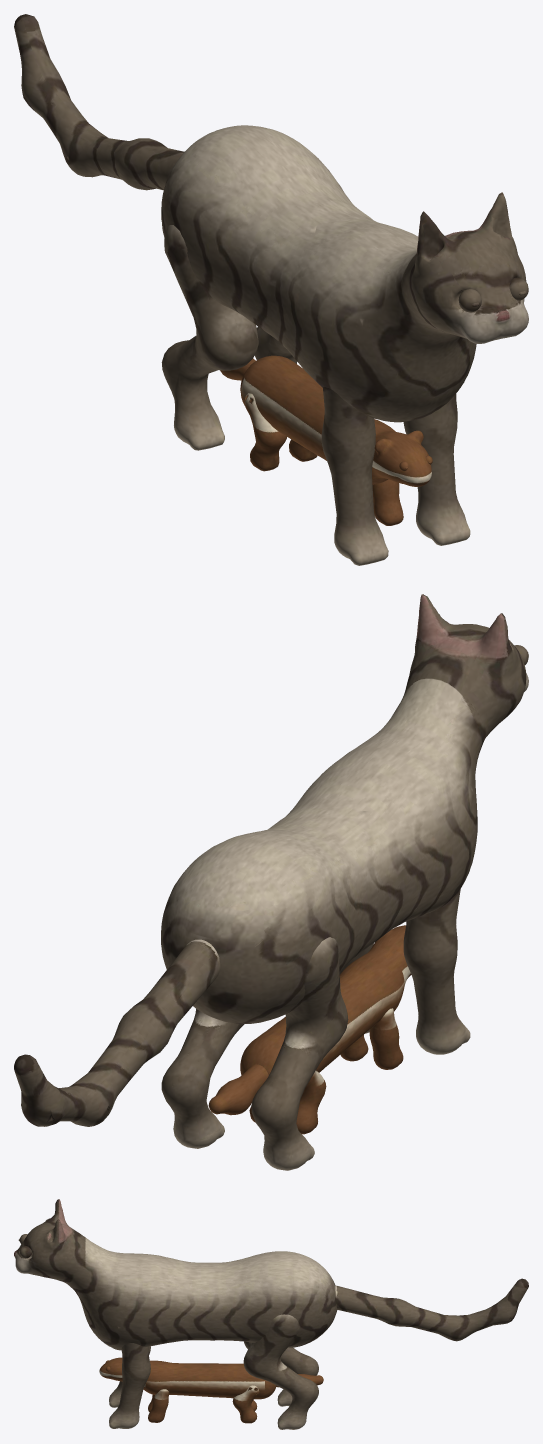
Rendered from criaturas3.glb.
3 renders of one model, top to bottom at view 1: azimuth 30°, elevation 25°; view 2: azimuth 150°, elevation 25°; view 3: azimuth 270°, elevation 25°, orthographic. The views are drawn at different scales.
Visible parts, largest first — view 1: CR_gato_cuerpo, CR_gato_pTI, CR_gato_cola, CR_comadreja_cuerpo, CR_gato_pDI, CR_gato_pDD, CR_comadreja_pTI, CR_comadreja_pDD, CR_gato_pTD; view 2: CR_gato_cuerpo, CR_gato_cola, CR_gato_pTI, CR_comadreja_cuerpo, CR_gato_pDI, CR_gato_pTD, CR_comadreja_cola, CR_comadreja_pDI, CR_comadreja_pTI; view 3: CR_gato_cuerpo, CR_gato_cola, CR_comadreja_cuerpo, CR_gato_pTD, CR_gato_pDD, CR_gato_pTI, CR_comadreja_pTD, CR_comadreja_pDD.
Boxes of the visible parts, left/top/right/bottom form: CR_gato_cuerpo: left=161, top=125, right=528, bottom=422; CR_gato_pTI: left=161, top=225, right=258, bottom=450; CR_gato_cola: left=14, top=14, right=183, bottom=190; CR_comadreja_cuerpo: left=240, top=355, right=432, bottom=486; CR_gato_pDI: left=321, top=387, right=388, bottom=565; CR_gato_pDD: left=403, top=394, right=470, bottom=545; CR_comadreja_pTI: left=244, top=393, right=286, bottom=471; CR_comadreja_pDD: left=372, top=479, right=403, bottom=525; CR_gato_pTD: left=254, top=327, right=296, bottom=363; CR_gato_cuerpo: left=161, top=594, right=528, bottom=1023; CR_gato_cola: left=14, top=939, right=220, bottom=1126; CR_gato_pTI: left=251, top=937, right=348, bottom=1170; CR_comadreja_cuerpo: left=240, top=925, right=411, bottom=1075; CR_gato_pDI: left=403, top=889, right=470, bottom=1054; CR_gato_pTD: left=161, top=1009, right=244, bottom=1148; CR_comadreja_cola: left=208, top=1064, right=268, bottom=1115; CR_comadreja_pDI: left=369, top=1008, right=403, bottom=1069; CR_comadreja_pTI: left=296, top=1070, right=326, bottom=1134; CR_gato_cuerpo: left=14, top=1199, right=337, bottom=1350; CR_gato_cola: left=335, top=1278, right=528, bottom=1341; CR_comadreja_cuerpo: left=99, top=1357, right=275, bottom=1399; CR_gato_pTD: left=243, top=1314, right=318, bottom=1429; CR_gato_pDD: left=109, top=1343, right=150, bottom=1428; CR_gato_pTI: left=244, top=1341, right=318, bottom=1406; CR_comadreja_pTD: left=232, top=1385, right=259, bottom=1423; CR_comadreja_pDD: left=148, top=1389, right=169, bottom=1422.
Size of the model in its own units: 0.1681 by 0.3845 by 0.8608.
Materials: 2 (2 with a texture image).
